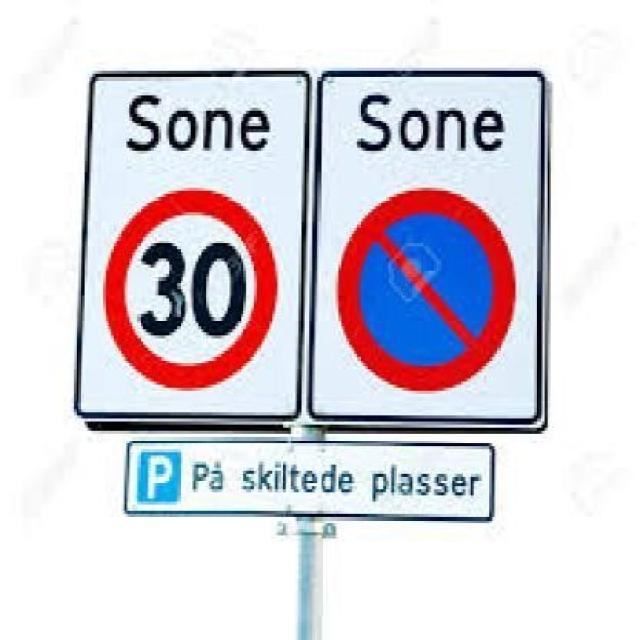forb_speed_over_30: (108, 186, 275, 388)
